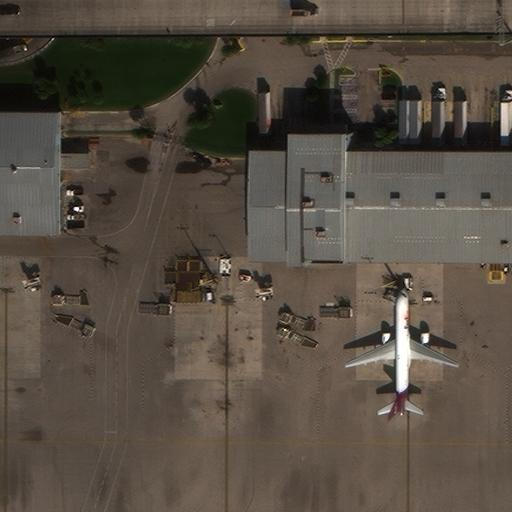Large Civil Transport: (344, 287, 458, 422)
